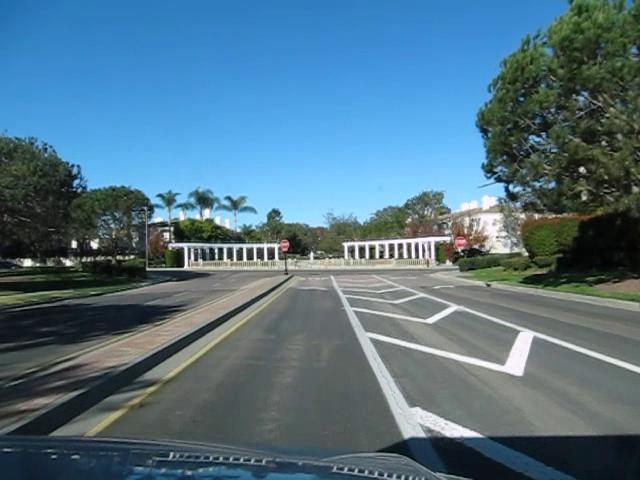stop: (454, 235, 466, 248)
